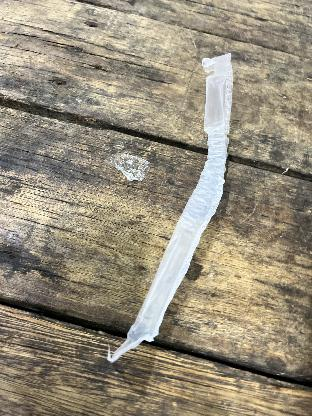Others: (102, 48, 236, 364)
